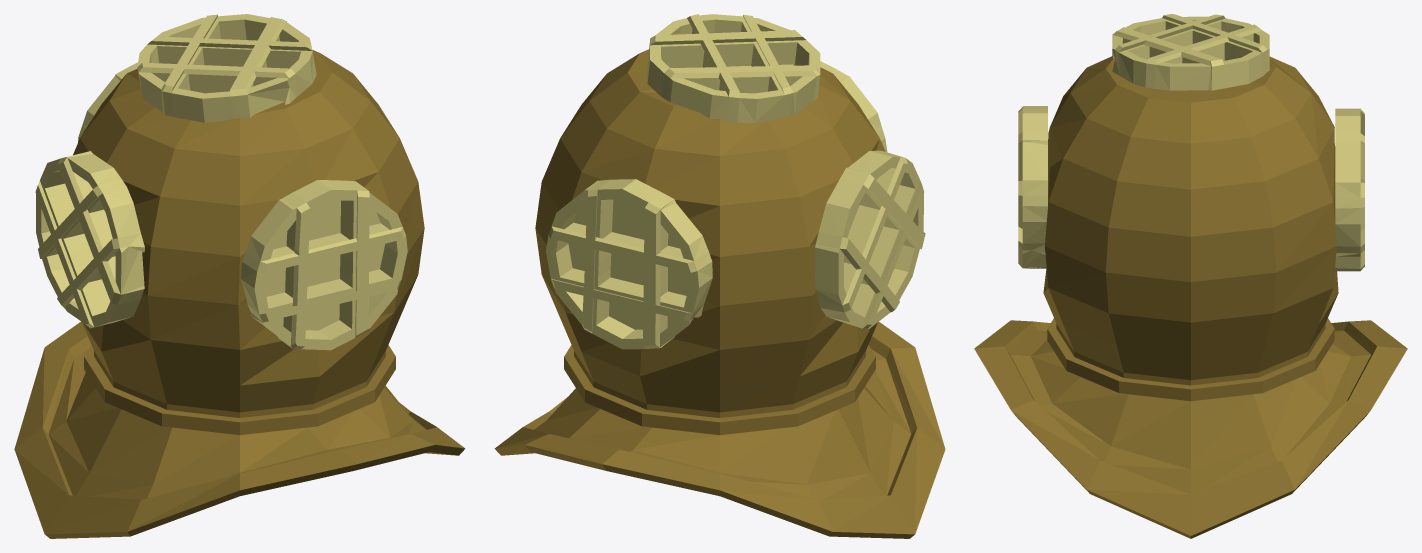
File: Diving Helmet.fbx
3 renders of one model, left to right at view 1: azimuth 30°, elevation 25°; view 2: azimuth 150°, elevation 25°; view 3: azimuth 270°, elevation 25°, orthographic. The views are drawn at different scales.
Visible parts, largest first — view 1: pCylinder5; view 2: pCylinder5; view 3: pCylinder5.
Part boxes in pixels (bbox=[...]): pCylinder5: bbox=[14, 14, 465, 538]; pCylinder5: bbox=[494, 14, 945, 538]; pCylinder5: bbox=[974, 14, 1407, 538].
Bounding box in the file's own units: 15.26 × 16.89 × 15.92.
